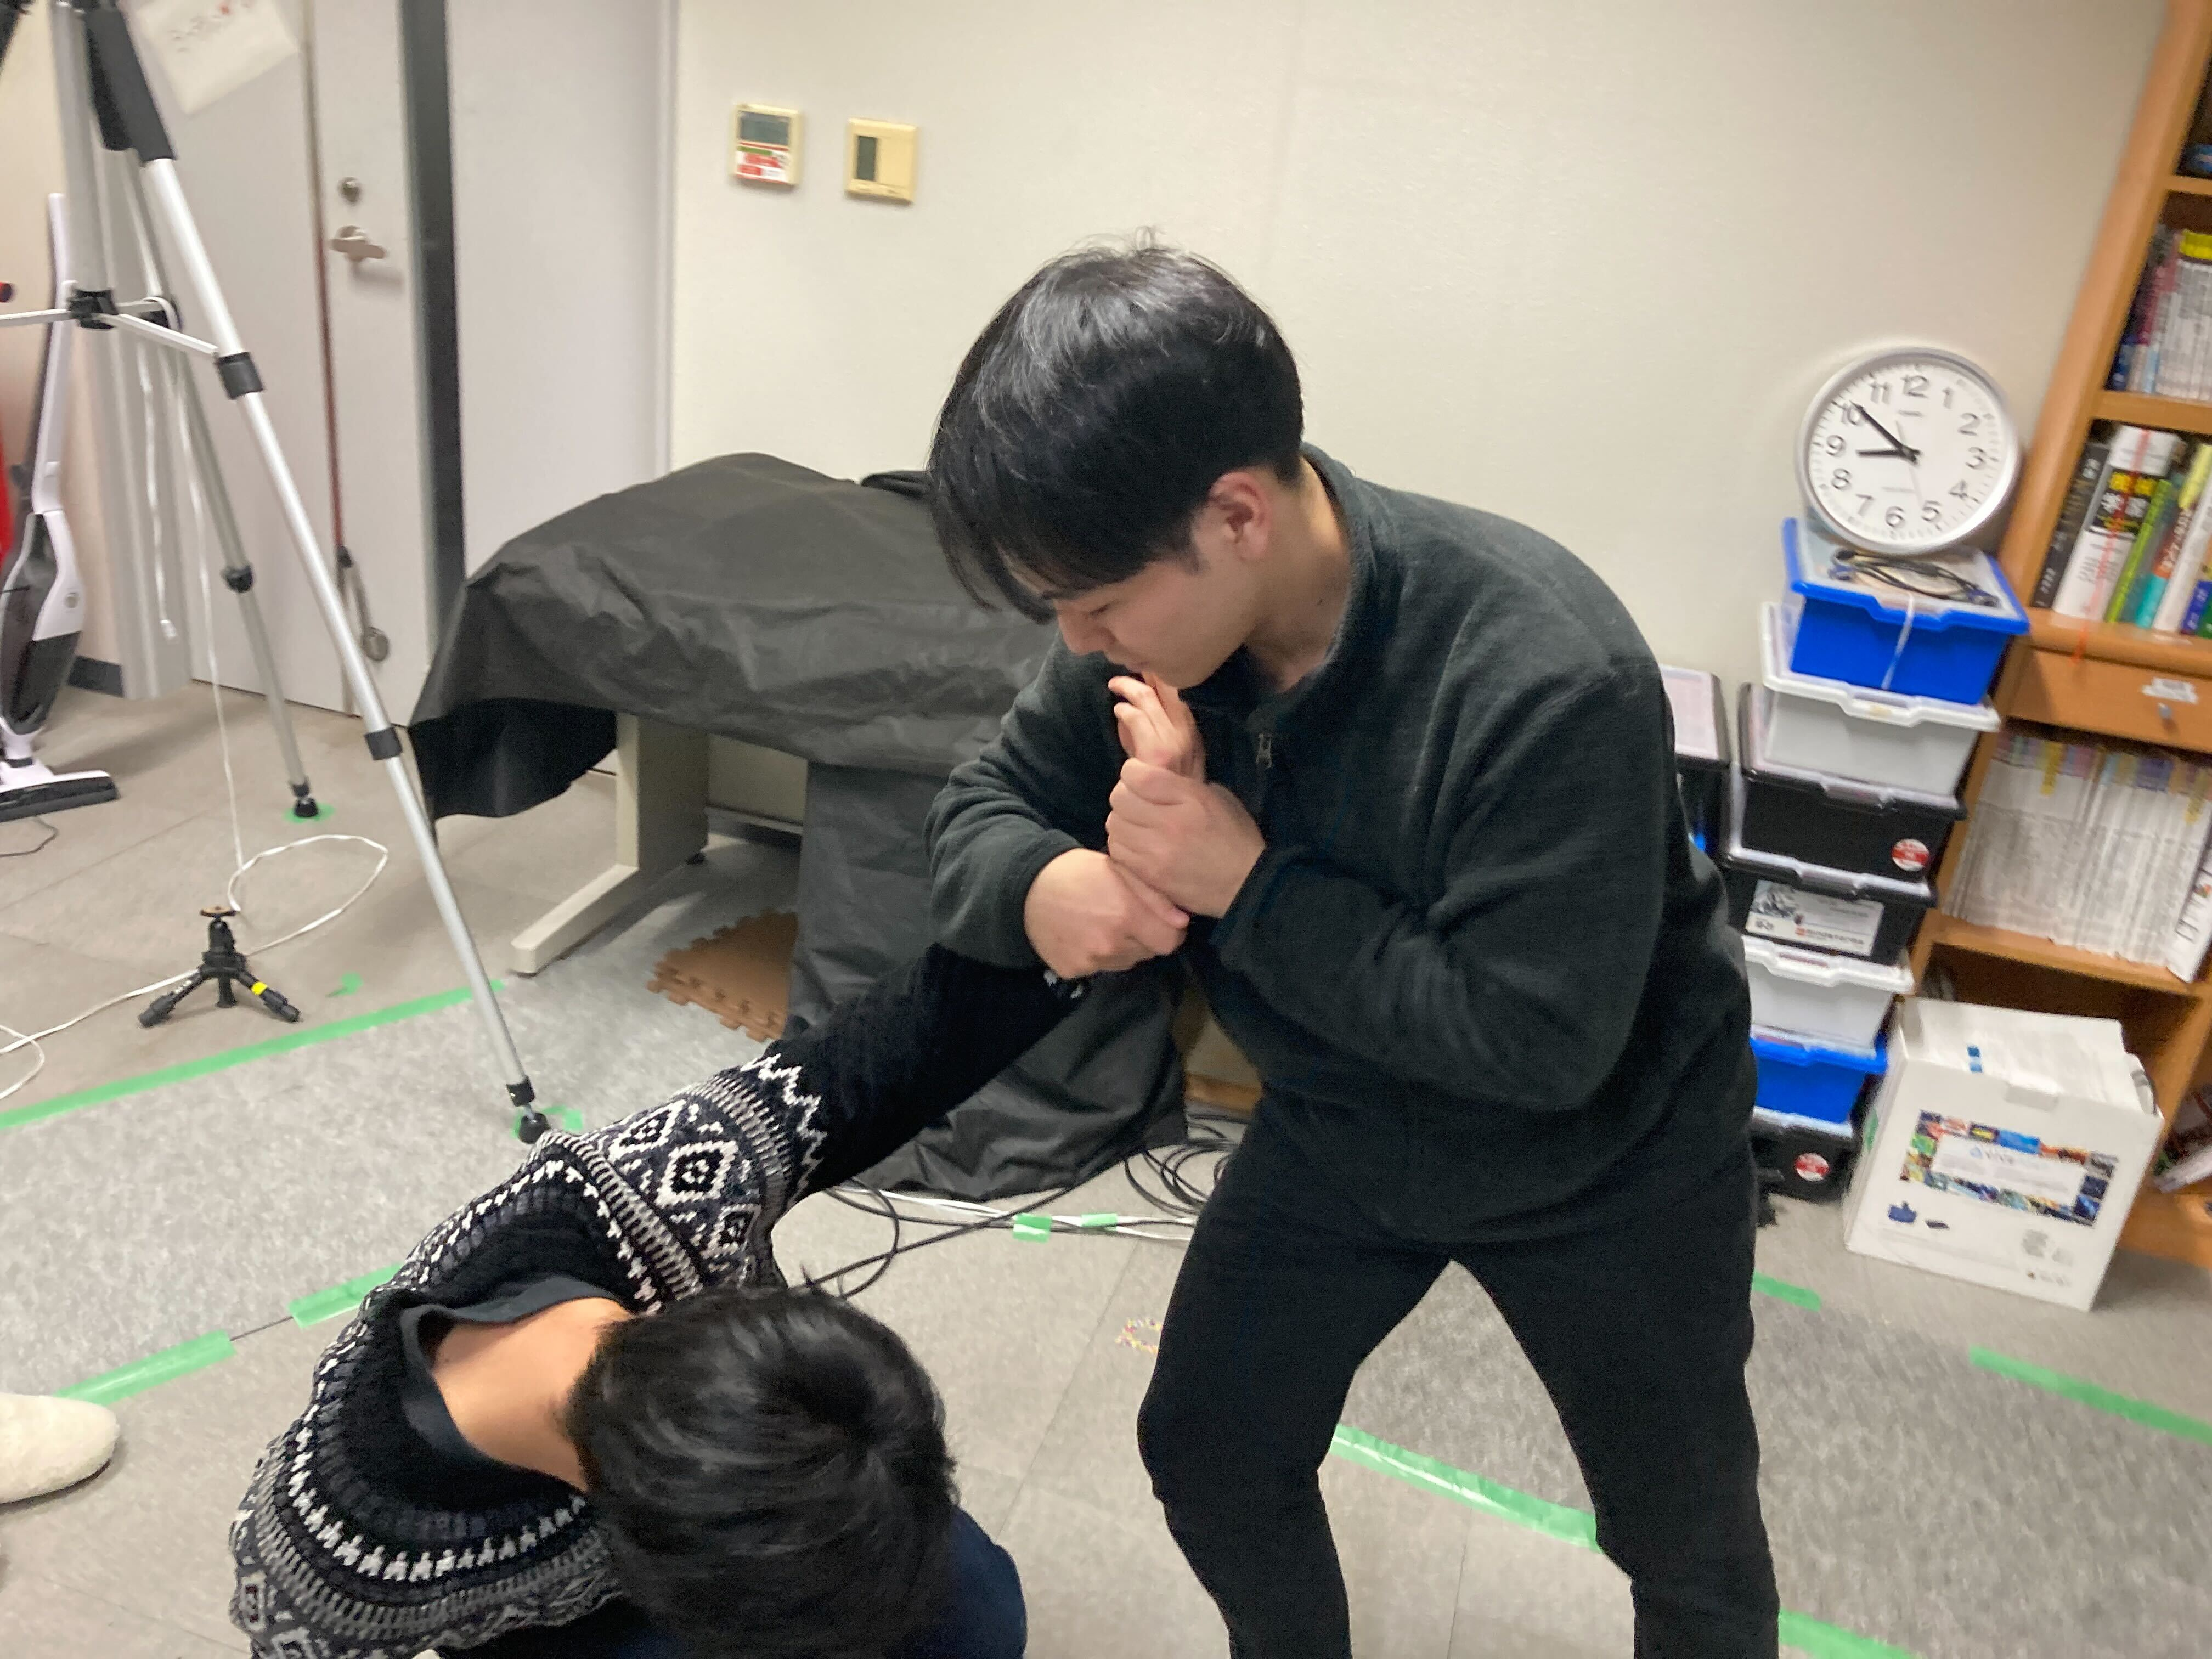nikyo: (658, 666, 1629, 1194)
